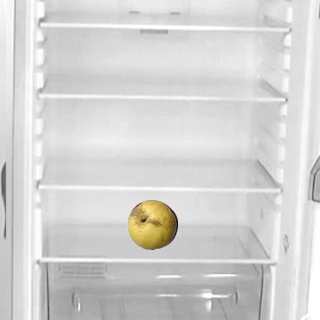Apple Braeburn: (127, 199, 177, 249)
Apple Golden 1: (126, 199, 176, 249)
